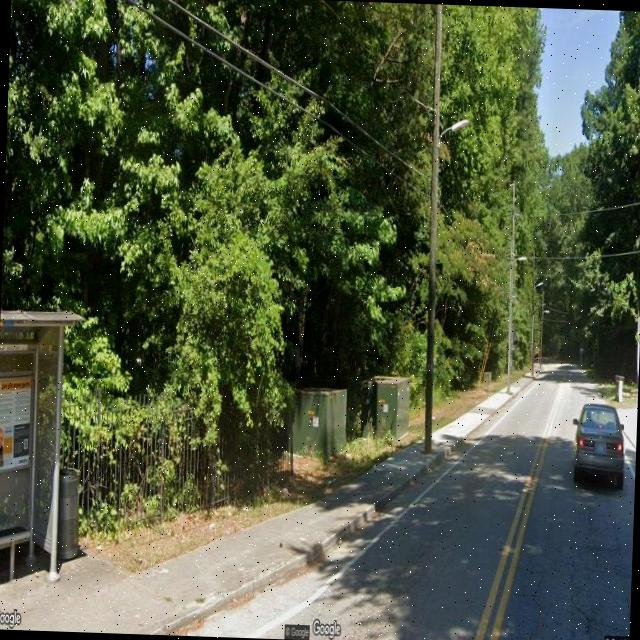seating: (0, 519, 28, 588)
shelter: (0, 307, 86, 619)
trash_can: (56, 468, 80, 561)
